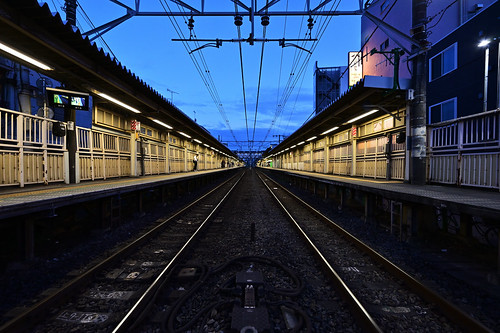building: (350, 1, 500, 188)
sky: (93, 6, 357, 147)
train track: (4, 165, 500, 333)
